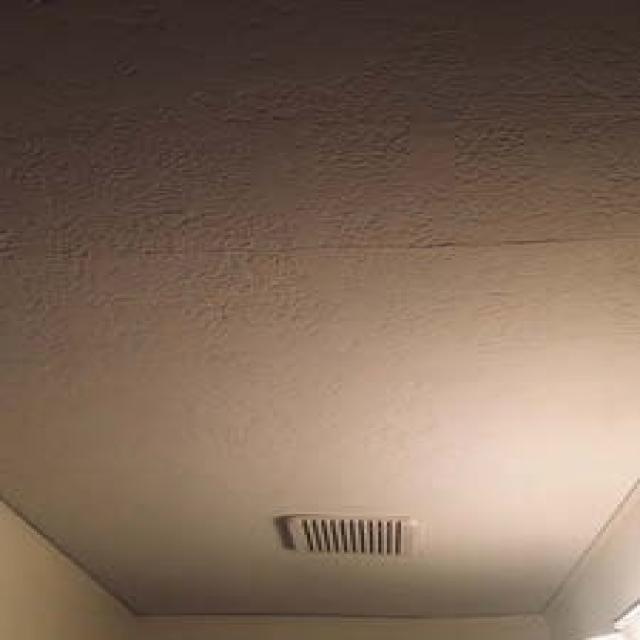leak: (0, 226, 640, 270)
